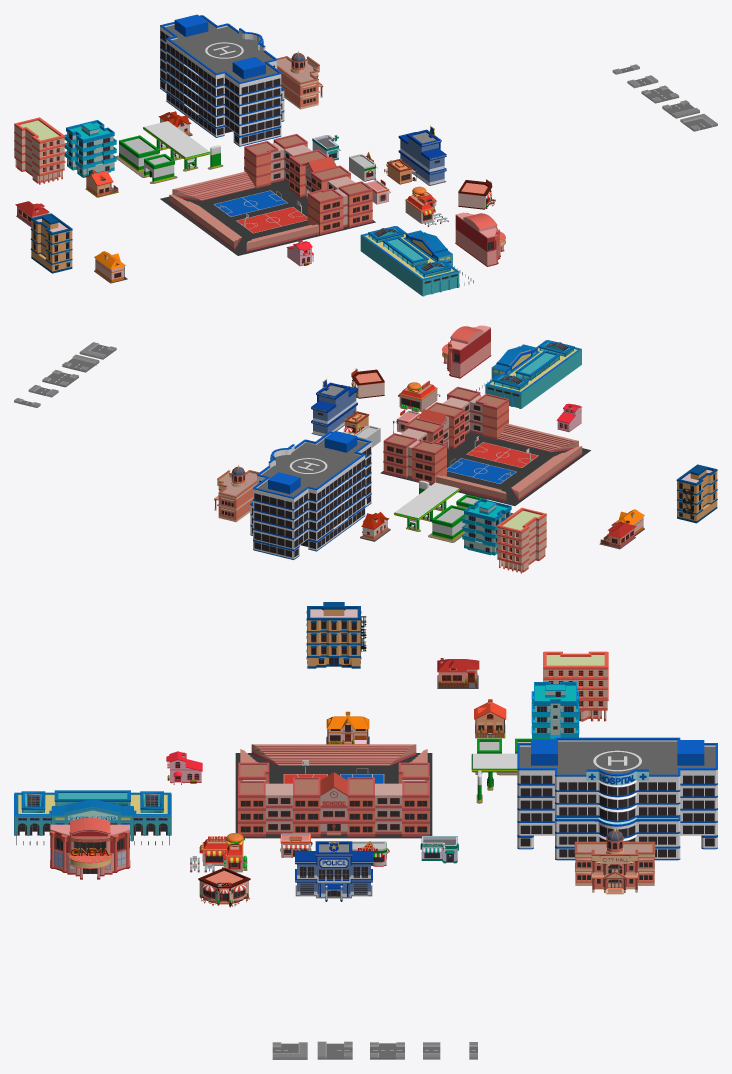
File: City.glb
3 renders of one model, top to bottom at view 1: azimuth 30°, elevation 25°; view 2: azimuth 150°, elevation 25°; view 3: azimuth 270°, elevation 25°, orthographic. The views are drawn at different scales.
Visible parts, largest first — view 1: PublicBuilding_School, PublicBuilding_Hospital, ShoppingCenterBuilding, PublicBuilding_GasStation, PublicBuilding_10, PublicBuilding_8, PublicBuilding_9, Cinema, PublicBuilding_Police, PublicBuilding_CityHall, BurgerBuilding, CafeBuilding (+7 smaller); view 2: PublicBuilding_School, PublicBuilding_Hospital, ShoppingCenterBuilding, PublicBuilding_GasStation, PublicBuilding_10, PublicBuilding_9, PublicBuilding_8, Cinema, PublicBuilding_Police, PublicBuilding_CityHall, BurgerBuilding, CafeBuilding (+6 smaller); view 3: PublicBuilding_Hospital, PublicBuilding_School, ShoppingCenterBuilding, Cinema, PublicBuilding_CityHall, PublicBuilding_Police, PublicBuilding_9, PublicBuilding_10, PublicBuilding_8, PublicBuilding_GasStation, BurgerBuilding, CafeBuilding (+5 smaller).
Boxes of the visible parts, x1=… form: PublicBuilding_School: x1=160, y1=134, x2=375, y2=255; PublicBuilding_Hospital: x1=160, y1=14, x2=284, y2=146; ShoppingCenterBuilding: x1=360, y1=226, x2=473, y2=296; PublicBuilding_GasStation: x1=116, y1=121, x2=223, y2=183; PublicBuilding_10: x1=14, y1=117, x2=65, y2=184; PublicBuilding_8: x1=64, y1=120, x2=116, y2=177; PublicBuilding_9: x1=30, y1=213, x2=72, y2=273; Cinema: x1=455, y1=212, x2=505, y2=266; PublicBuilding_Police: x1=398, y1=125, x2=446, y2=185; PublicBuilding_CityHall: x1=277, y1=51, x2=323, y2=109; BurgerBuilding: x1=405, y1=186, x2=448, y2=226; CafeBuilding: x1=458, y1=179, x2=495, y2=209; PublicBuilding_School: x1=380, y1=386, x2=590, y2=505; PublicBuilding_Hospital: x1=250, y1=431, x2=371, y2=559; ShoppingCenterBuilding: x1=476, y1=340, x2=581, y2=408; PublicBuilding_GasStation: x1=394, y1=480, x2=486, y2=542; PublicBuilding_10: x1=496, y1=507, x2=546, y2=573; PublicBuilding_9: x1=676, y1=464, x2=717, y2=523; PublicBuilding_8: x1=462, y1=498, x2=513, y2=555; Cinema: x1=442, y1=325, x2=491, y2=378; PublicBuilding_Police: x1=311, y1=378, x2=357, y2=436; PublicBuilding_CityHall: x1=214, y1=464, x2=259, y2=522; BurgerBuilding: x1=398, y1=380, x2=440, y2=412; CafeBuilding: x1=348, y1=368, x2=384, y2=398; PublicBuilding_Hospital: x1=517, y1=737, x2=717, y2=860; PublicBuilding_School: x1=235, y1=744, x2=432, y2=838; ShoppingCenterBuilding: x1=14, y1=790, x2=171, y2=845; Cinema: x1=50, y1=818, x2=130, y2=879; PublicBuilding_CityHall: x1=574, y1=827, x2=655, y2=894; PublicBuilding_Police: x1=295, y1=841, x2=372, y2=901; PublicBuilding_9: x1=306, y1=602, x2=366, y2=668; PublicBuilding_10: x1=543, y1=651, x2=608, y2=721; PublicBuilding_8: x1=531, y1=682, x2=579, y2=738; PublicBuilding_GasStation: x1=471, y1=738, x2=554, y2=803; BurgerBuilding: x1=190, y1=833, x2=247, y2=872; CafeBuilding: x1=198, y1=867, x2=250, y2=907.
Bounding box in the file's own units: 109 × 16.31 × 80.86.
7 materials, 3 textured.
